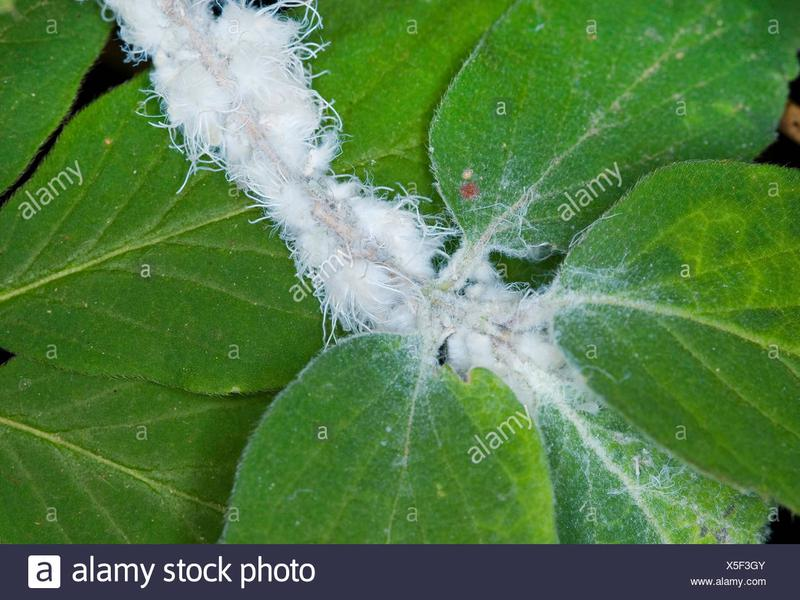Mealy_bug: (336, 195, 604, 411), (120, 1, 345, 182)
